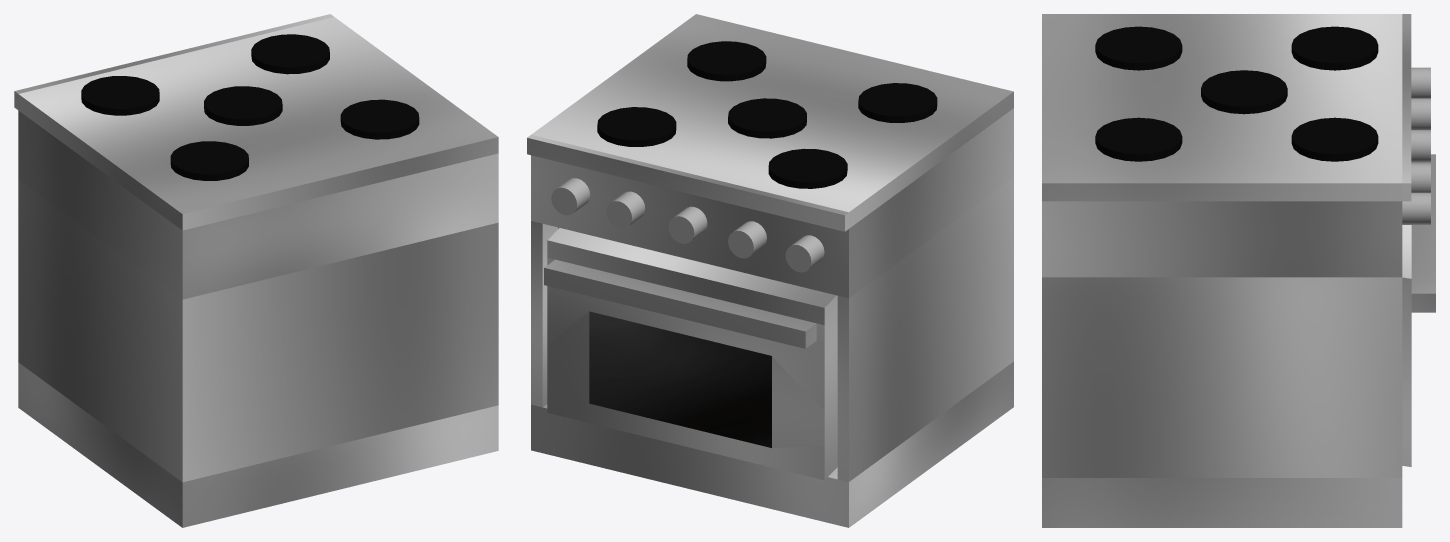
The model's file is stove.fbx.
The picture shows the model from 3 angles, left to right: view 1: azimuth 30°, elevation 25°; view 2: azimuth 150°, elevation 25°; view 3: azimuth 270°, elevation 25°; orthographic projection. The views are drawn at different scales.
Visible parts, largest first — view 1: pCylinder14; view 2: pCylinder14; view 3: pCylinder14.
Boxes of the visible parts, left/top/right/bottom form: pCylinder14: left=14, top=14, right=498, bottom=527; pCylinder14: left=527, top=14, right=1013, bottom=527; pCylinder14: left=1042, top=14, right=1435, bottom=527.
Size of the model in its own units: 2.35 by 2.28 by 2.31.
Materials: 3 (1 with a texture image).
